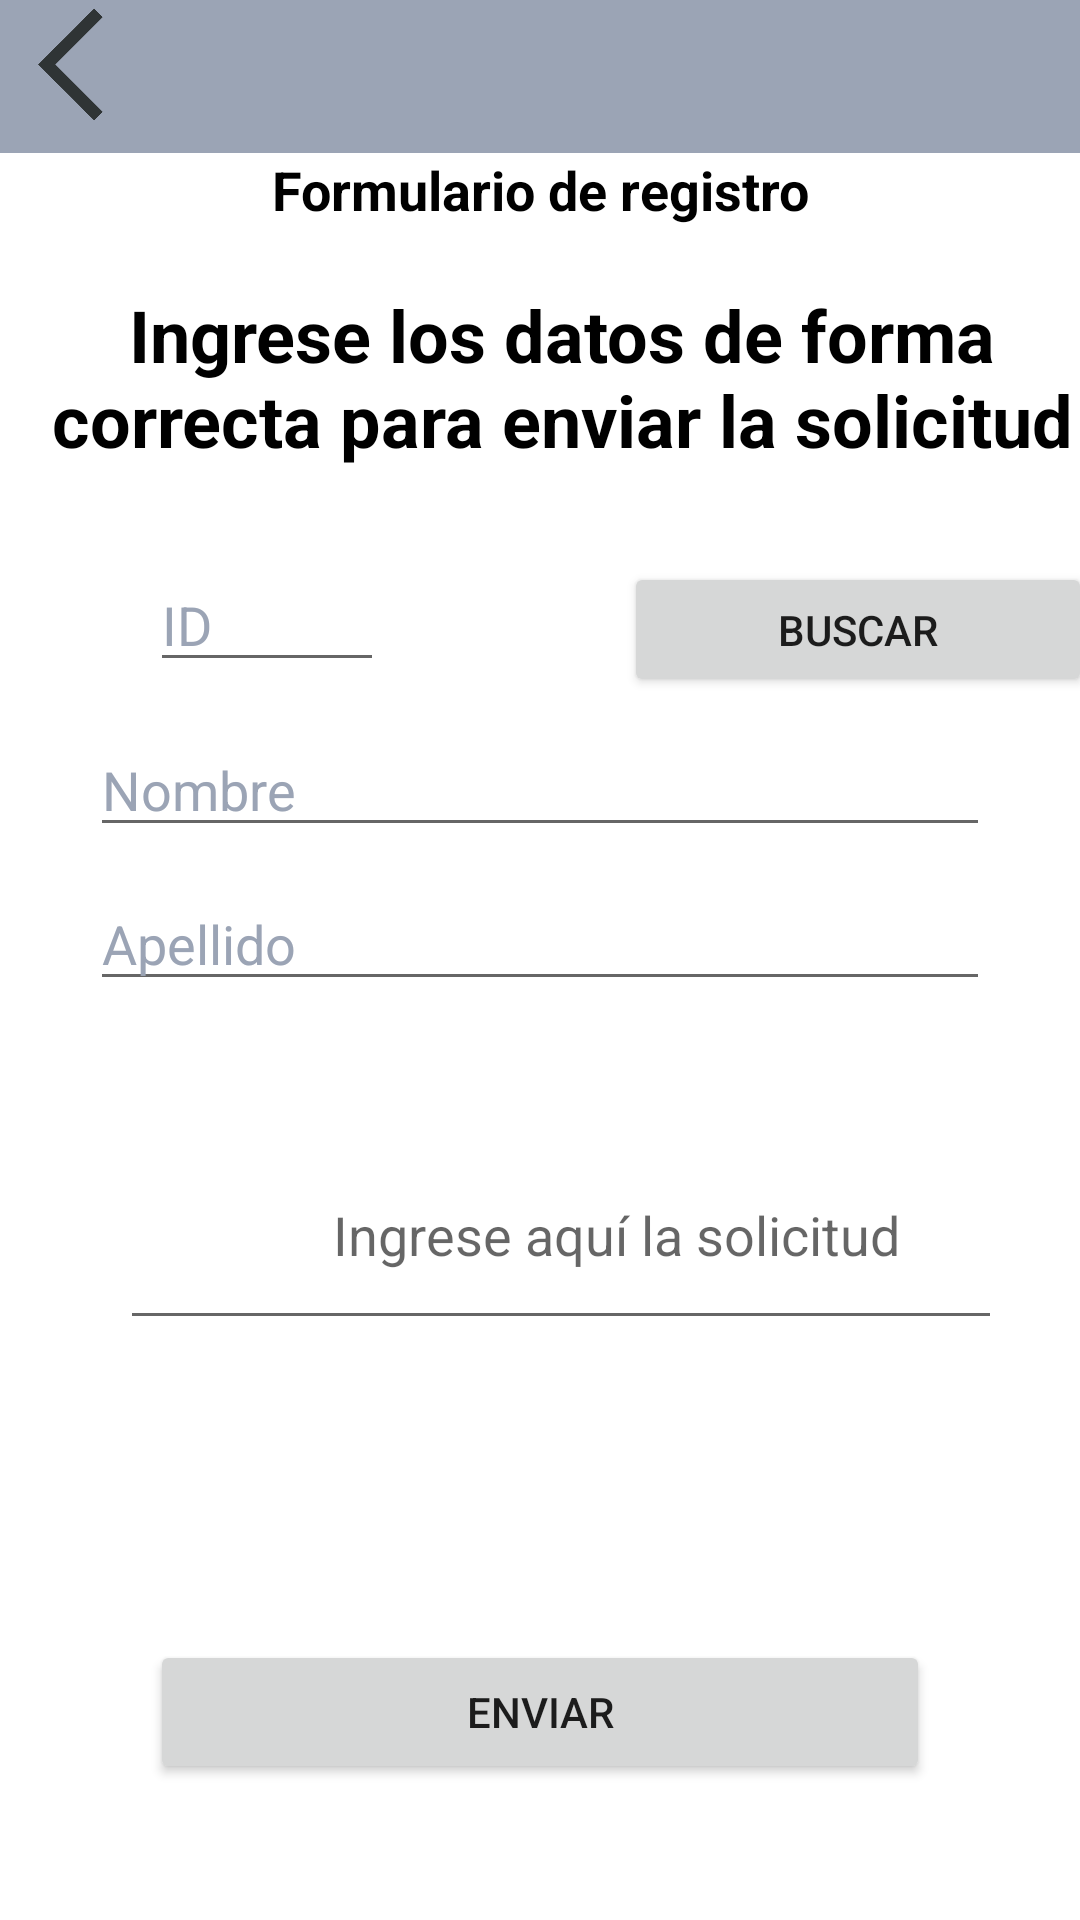

Screen size 1080*1920. Icon name, then its center in pixels as point (x, y):
fllecha: point (70, 64)
